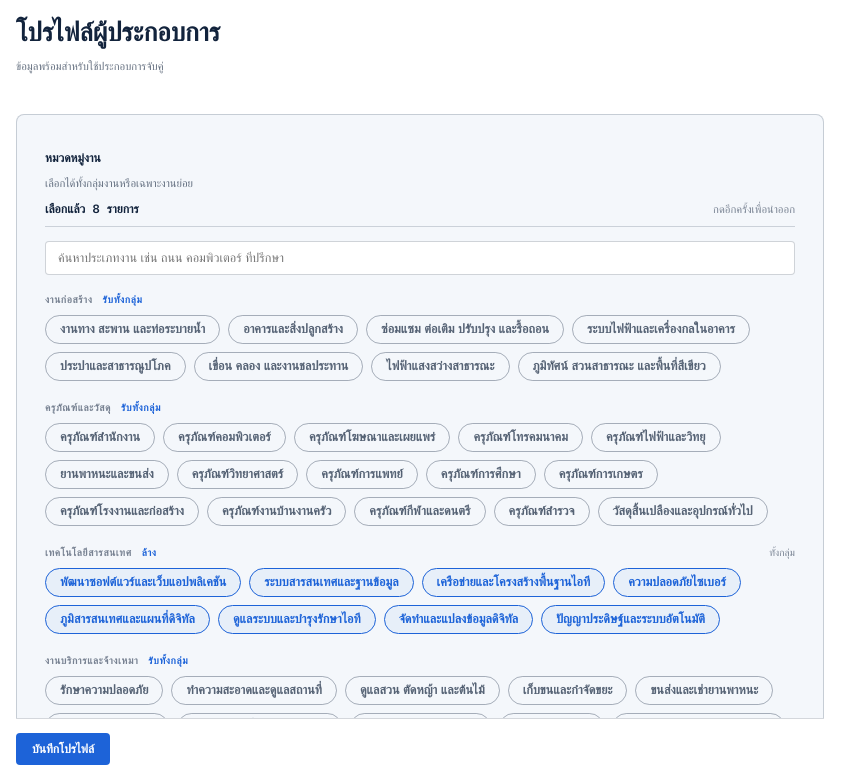
Test case: VendorProfileView › shows the server's Thai reason when it states one
Click the button "บันทึกโปรไฟล์" at (63, 749), box [16,733,110,765]
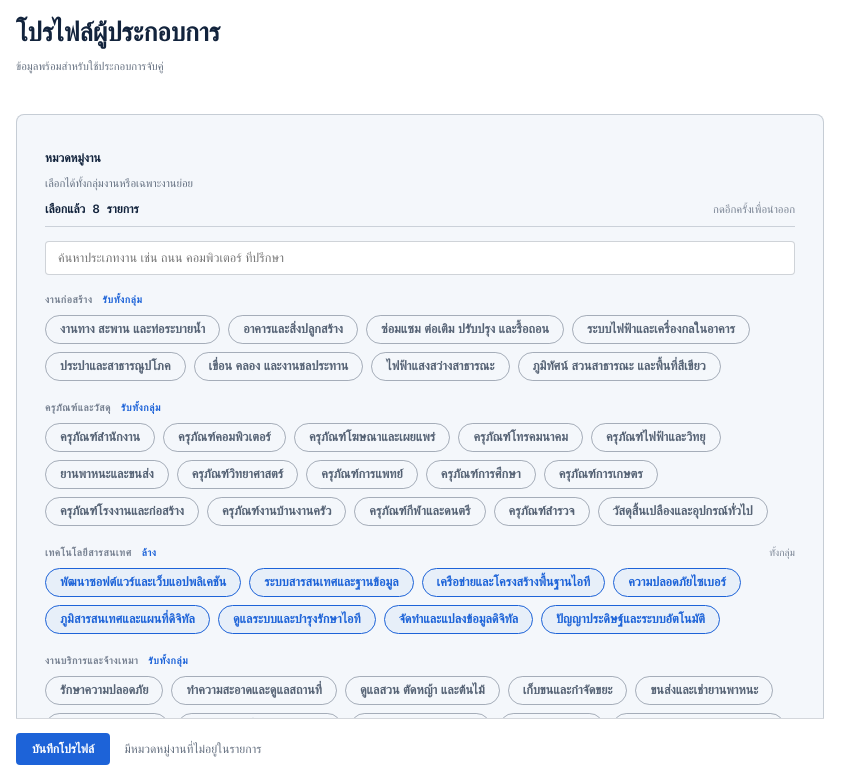
Expected: the text "มีหมวดหมู่งานที่ไม่อยู่ในรายการ" is shown, [124,742,262,756]
